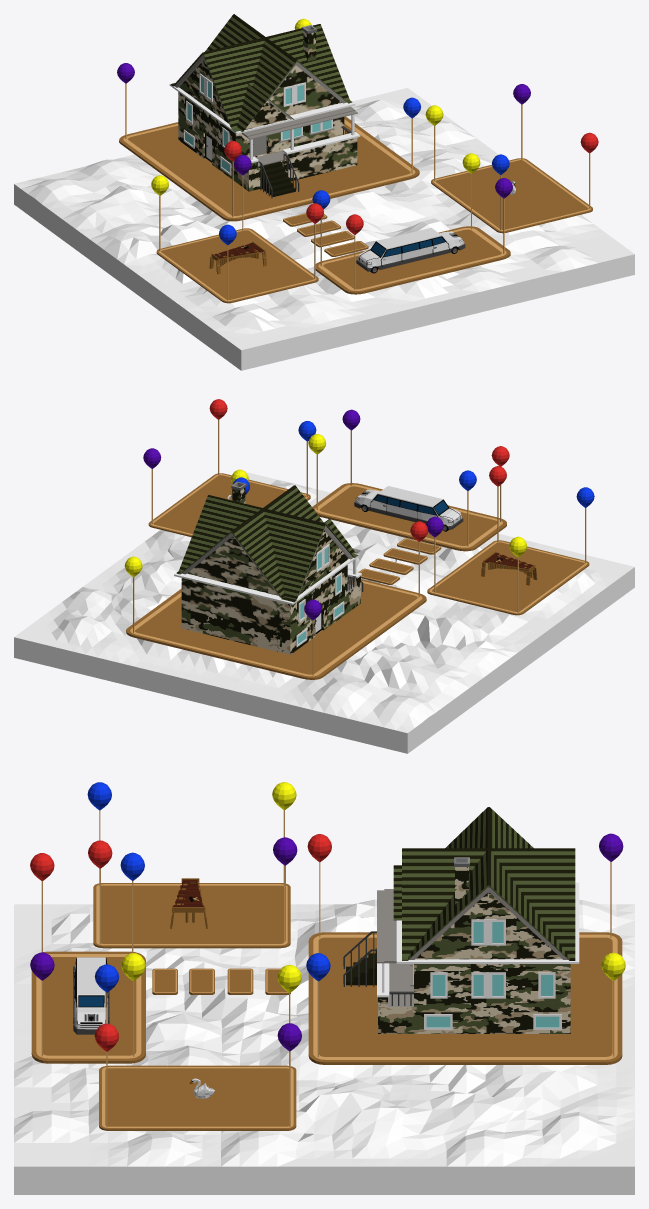
The picture shows the model from 3 angles, top to bottom: view 1: azimuth 30°, elevation 25°; view 2: azimuth 150°, elevation 25°; view 3: azimuth 270°, elevation 25°; orthographic projection. The views are drawn at different scales.
Visible parts, largest first — view 1: Cube.013, Cube.001, VEHICLES_LIMOUSINE, OBJRANDOM_MARIMBA; view 2: Cube.013, Cube.001, VEHICLES_LIMOUSINE, OBJRANDOM_MARIMBA; view 3: Cube.013, Cube.001, VEHICLES_LIMOUSINE, OBJRANDOM_MARIMBA.
Part boxes in pixels (box(x1,y1,x2,y2)): Cube.013: box(14, 18, 634, 370); Cube.001: box(169, 14, 360, 198); VEHICLES_LIMOUSINE: box(356, 227, 465, 273); OBJRANDOM_MARIMBA: box(209, 241, 266, 274); Cube.013: box(14, 399, 634, 753); Cube.001: box(174, 481, 363, 654); VEHICLES_LIMOUSINE: box(354, 486, 463, 531); OBJRANDOM_MARIMBA: box(481, 551, 537, 585); Cube.013: box(14, 782, 634, 1194); Cube.001: box(343, 807, 579, 1033); VEHICLES_LIMOUSINE: box(73, 957, 109, 1034); OBJRANDOM_MARIMBA: box(170, 878, 207, 928).
Bounding box in the file's own units: 4000 × 1714 × 4000.
Materials: 36 (4 with a texture image).
